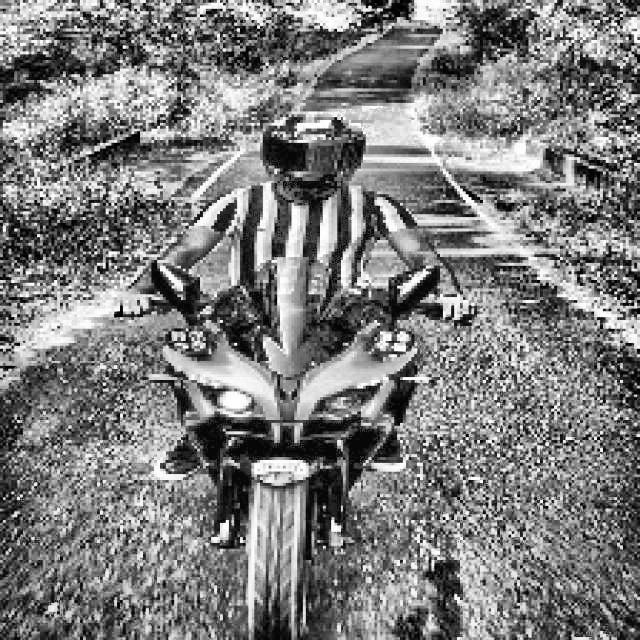motorcycle: (113, 251, 448, 640)
